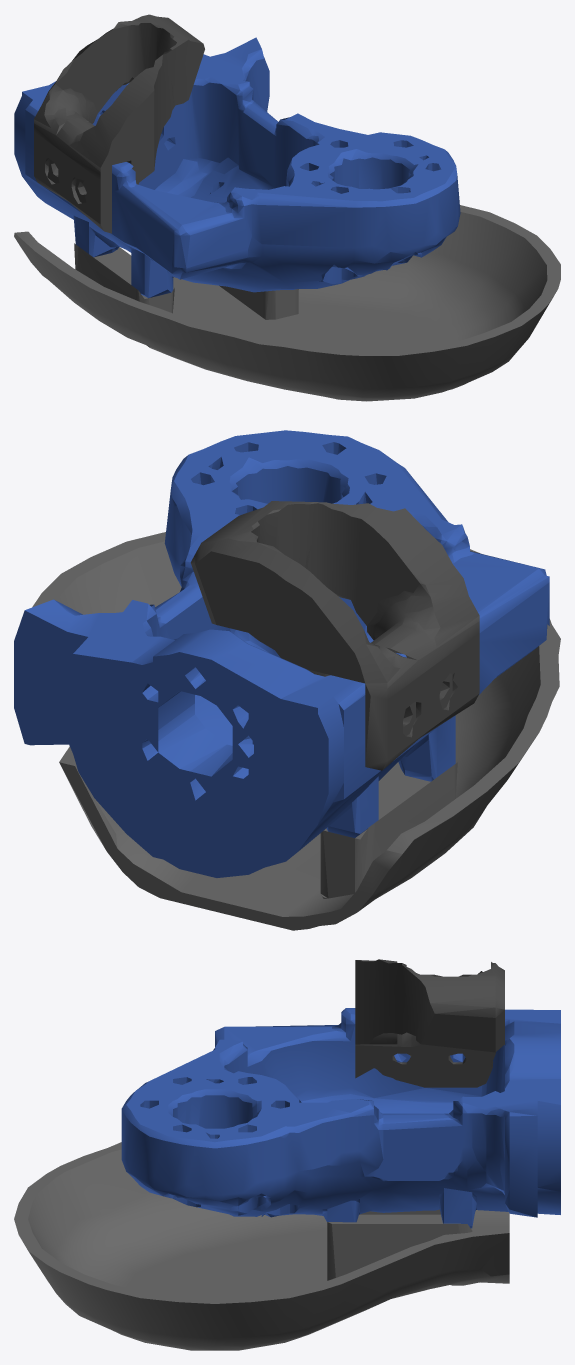
Rendered from right_elbow_pitch.obj.
The picture shows the model from 3 angles, top to bottom: view 1: azimuth 30°, elevation 25°; view 2: azimuth 150°, elevation 25°; view 3: azimuth 270°, elevation 25°; orthographic projection. The views are drawn at different scales.
Parts seen in each view (by area): view 1: N16_23_P04_01_Link_Right_Elbow, Elbow_Cover, N16_23_P04_02_Elbow_Wire_Holder; view 2: N16_23_P04_01_Link_Right_Elbow, N16_23_P04_02_Elbow_Wire_Holder, Elbow_Cover; view 3: N16_23_P04_01_Link_Right_Elbow, Elbow_Cover, N16_23_P04_02_Elbow_Wire_Holder.
Part boxes in pixels (left/top/right/bottom): N16_23_P04_01_Link_Right_Elbow: left=14, top=37, right=460, bottom=298; Elbow_Cover: left=14, top=205, right=560, bottom=401; N16_23_P04_02_Elbow_Wire_Holder: left=34, top=14, right=204, bottom=233; N16_23_P04_01_Link_Right_Elbow: left=14, top=430, right=549, bottom=877; N16_23_P04_02_Elbow_Wire_Holder: left=190, top=501, right=479, bottom=770; Elbow_Cover: left=32, top=532, right=560, bottom=930; N16_23_P04_01_Link_Right_Elbow: left=121, top=1008, right=560, bottom=1228; Elbow_Cover: left=14, top=1142, right=509, bottom=1350; N16_23_P04_02_Elbow_Wire_Holder: left=355, top=959, right=504, bottom=1087.
Size of the model in its own units: 0.102 by 0.066 by 0.117.
